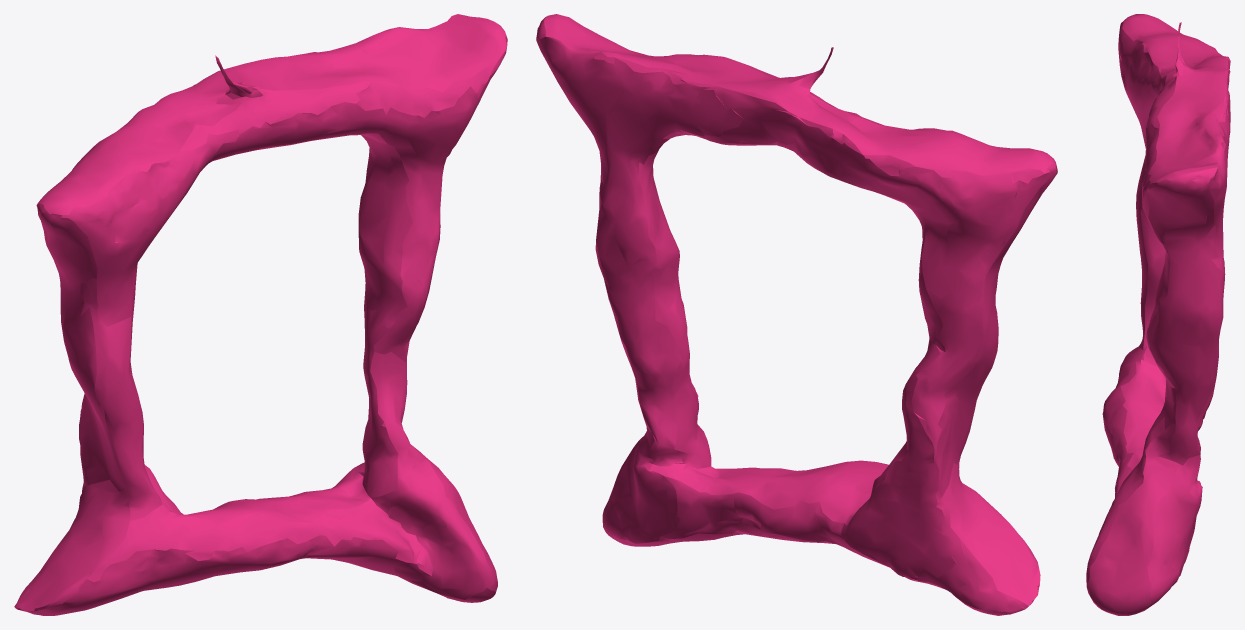
File: frame.fbx
3 renders of one model, left to right at view 1: azimuth 30°, elevation 25°; view 2: azimuth 150°, elevation 25°; view 3: azimuth 270°, elevation 25°, orthographic. The views are drawn at different scales.
Visible parts, largest first — view 1: Polygon; view 2: Polygon; view 3: Polygon.
Part boxes in pixels (left/top/right/bottom): Polygon: left=14, top=14, right=507, bottom=615; Polygon: left=536, top=14, right=1057, bottom=615; Polygon: left=1086, top=14, right=1230, bottom=615.
Bounding box in the file's own units: 0.444 × 0.4997 × 0.1319.
